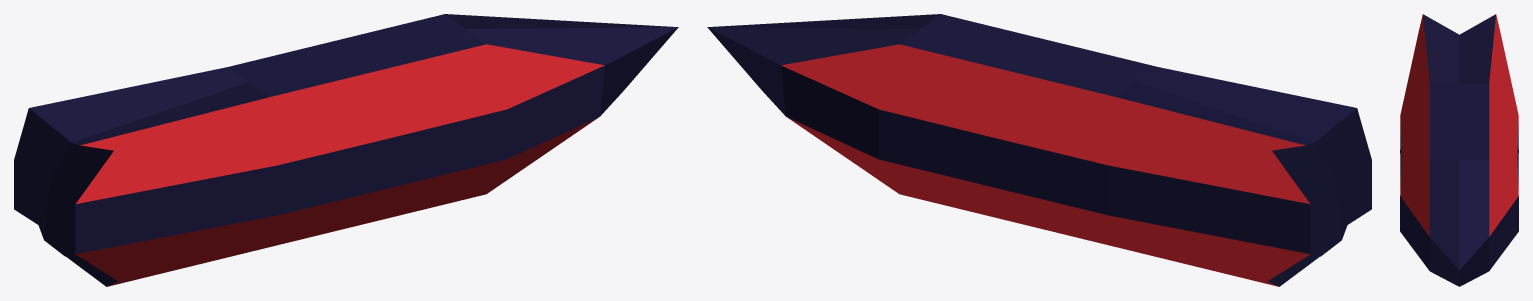
The model's file is tankShell.fbx.
The picture shows the model from 3 angles, left to right: view 1: azimuth 30°, elevation 25°; view 2: azimuth 150°, elevation 25°; view 3: azimuth 270°, elevation 25°; orthographic projection. The views are drawn at different scales.
Visible parts, largest first — view 1: Cube; view 2: Cube; view 3: Cube.
Part boxes in pixels (x1=…): Cube: x1=14, y1=14, x2=678, y2=286; Cube: x1=707, y1=14, x2=1371, y2=286; Cube: x1=1400, y1=14, x2=1518, y2=286.
Bounding box in the file's own units: 396 × 91.06 × 89.41.
